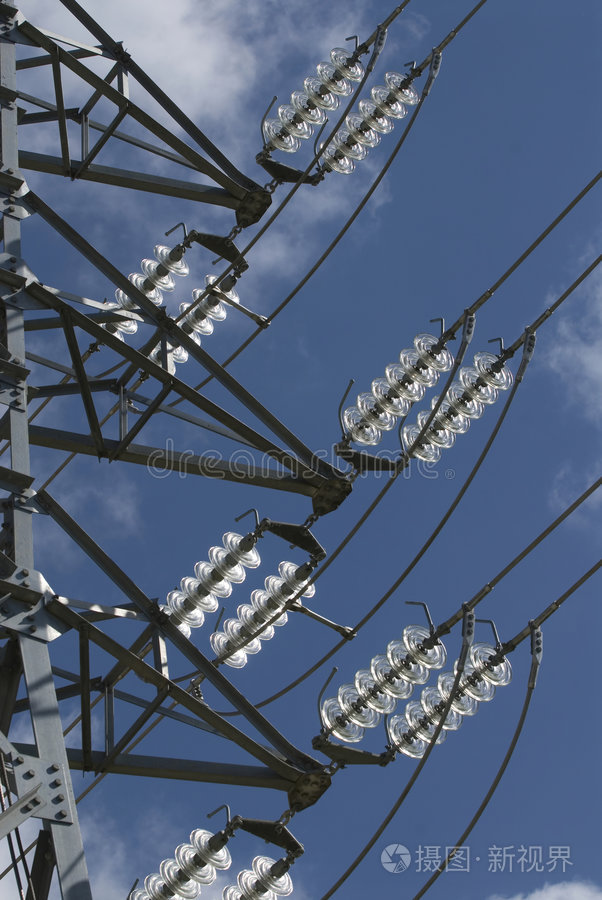insulator: (324, 620, 447, 743), (392, 648, 513, 761), (412, 355, 512, 467), (351, 335, 447, 447), (263, 47, 368, 148), (214, 560, 312, 666), (319, 68, 414, 174), (95, 240, 190, 335), (167, 529, 253, 633), (153, 280, 238, 372), (140, 827, 232, 900), (231, 854, 294, 900)
